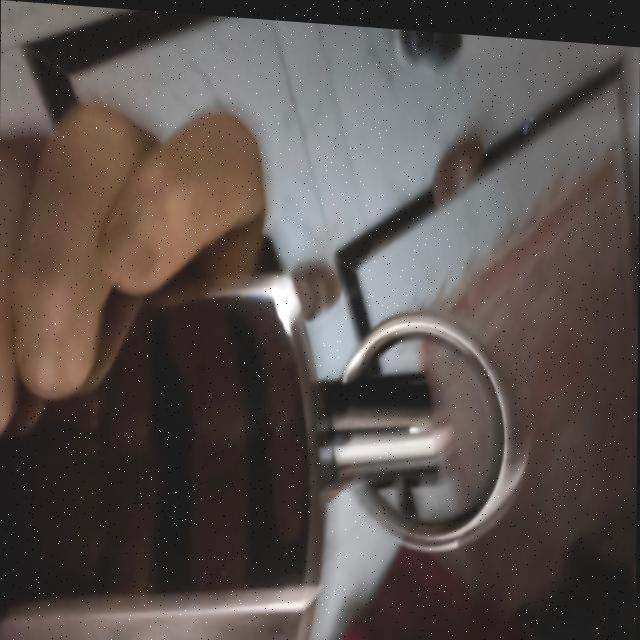Afnan: (0, 235, 531, 640)
